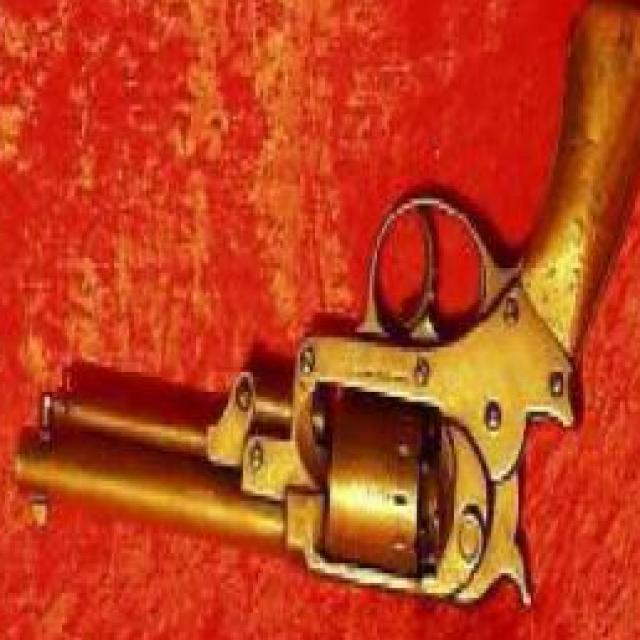pistol: (12, 0, 640, 613)
